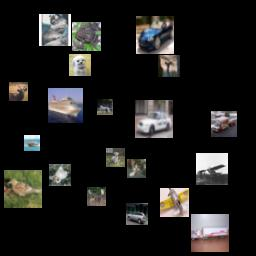airplane: (196, 153, 228, 185), (160, 188, 189, 217)
automobile: (135, 100, 173, 138), (136, 16, 174, 54), (126, 203, 148, 225)
bird: (4, 170, 42, 208)
cat: (39, 14, 71, 46), (49, 164, 71, 186), (127, 159, 146, 178)
deer: (158, 55, 180, 77), (9, 82, 28, 101), (87, 187, 106, 206)
dog: (69, 54, 91, 76), (106, 148, 125, 167)
frog: (72, 22, 101, 51)
ship: (48, 88, 83, 123), (24, 135, 40, 151)
truck: (191, 214, 229, 252), (211, 111, 237, 137)
